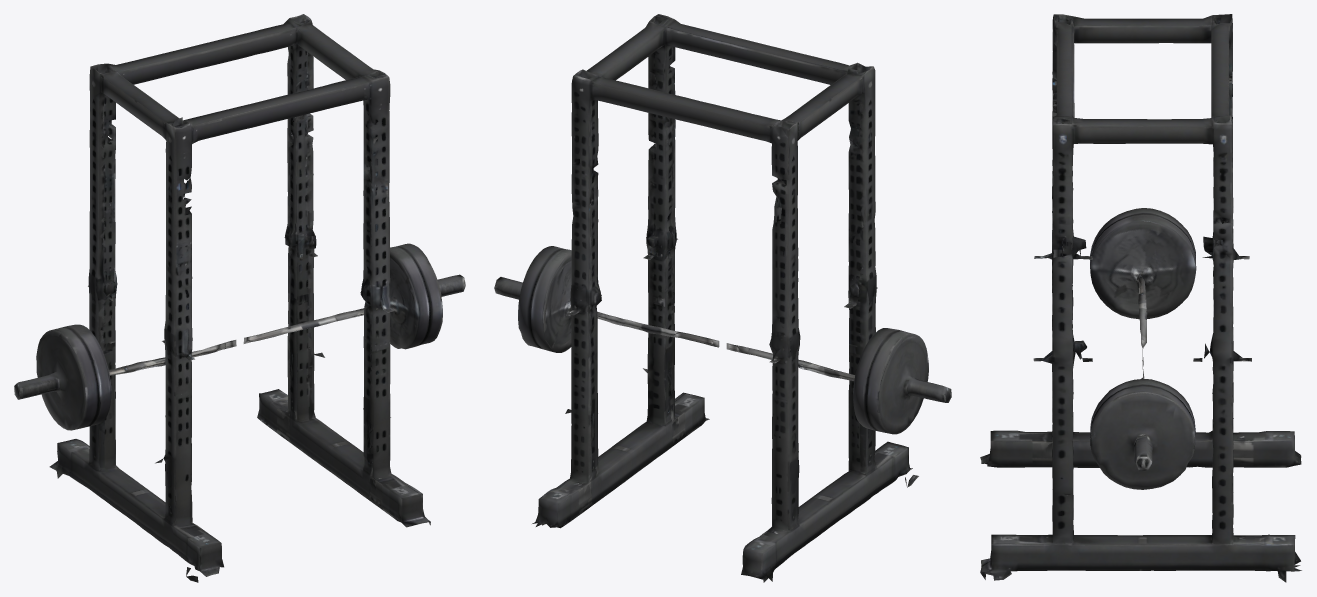
The picture shows the model from 3 angles, left to right: view 1: azimuth 30°, elevation 25°; view 2: azimuth 150°, elevation 25°; view 3: azimuth 270°, elevation 25°; orthographic projection. The views are drawn at different scales.
Size of the model in its own units: 2 by 1.85 by 1.19.
1 material, 1 textured.
